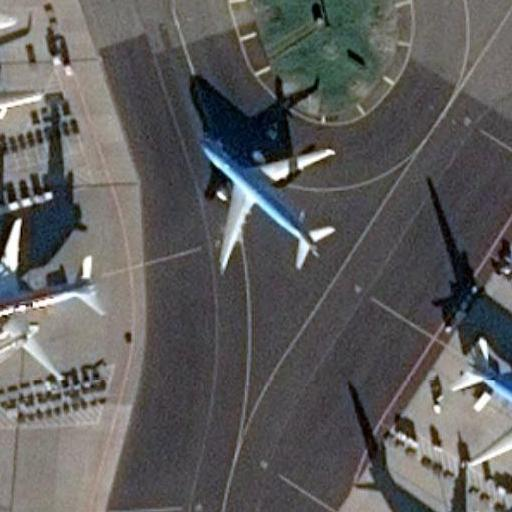Aircraft: (193, 128, 340, 272), (0, 217, 108, 378), (445, 321, 512, 470), (0, 0, 44, 177), (366, 509, 512, 512)
